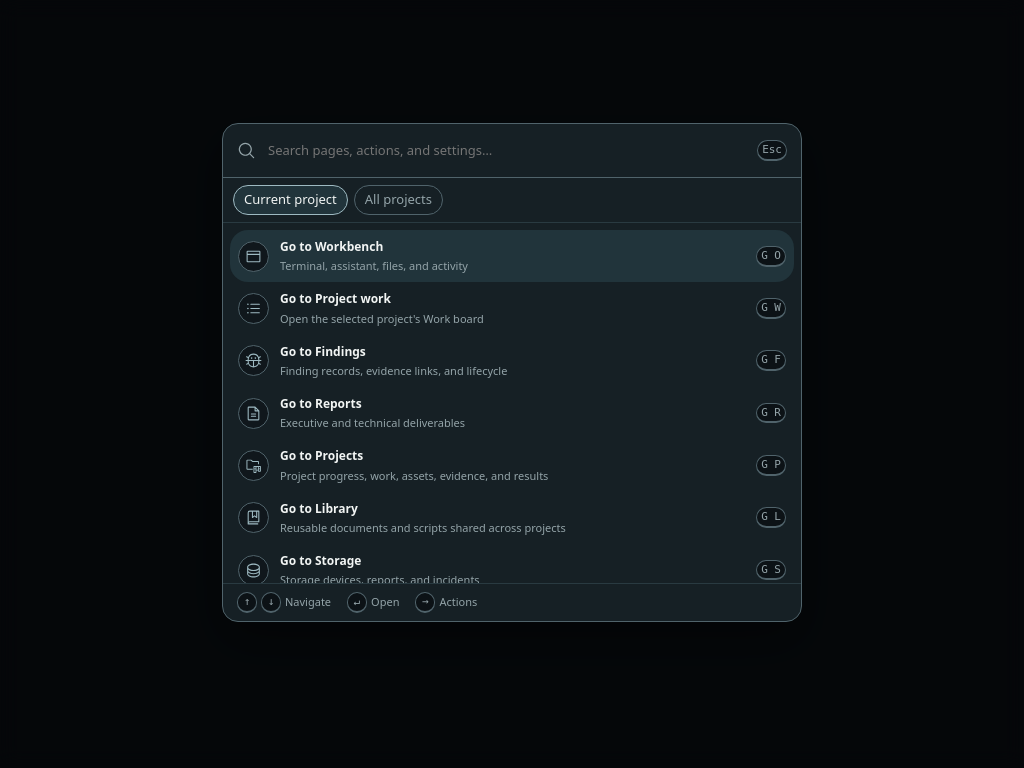
Scenario: CommandPalette federated search › merges Core resources into the existing page, setting, and action search
The width and height of the screenshot is (1024, 768).
Type "gateway" into the field named "Search pages, actions, and settings". click: {"x": 507, "y": 150}
box: [266,124,747,176]
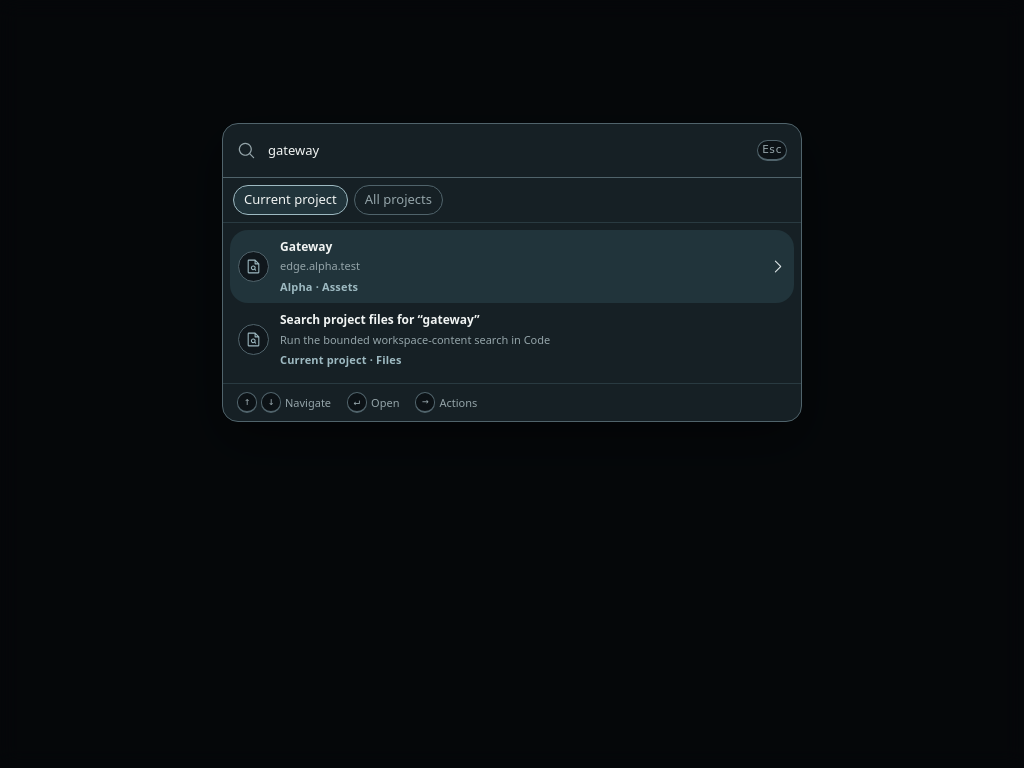
Check: the option "Gateway edge.alpha.test Alpha · Assets" is shown, box [230,230,794,303]
Check: the option "Search project files for" is shown, box [230,303,794,376]
Press ArrowRight in the field named "Search pages, actions, and settings", box [266,124,747,176]
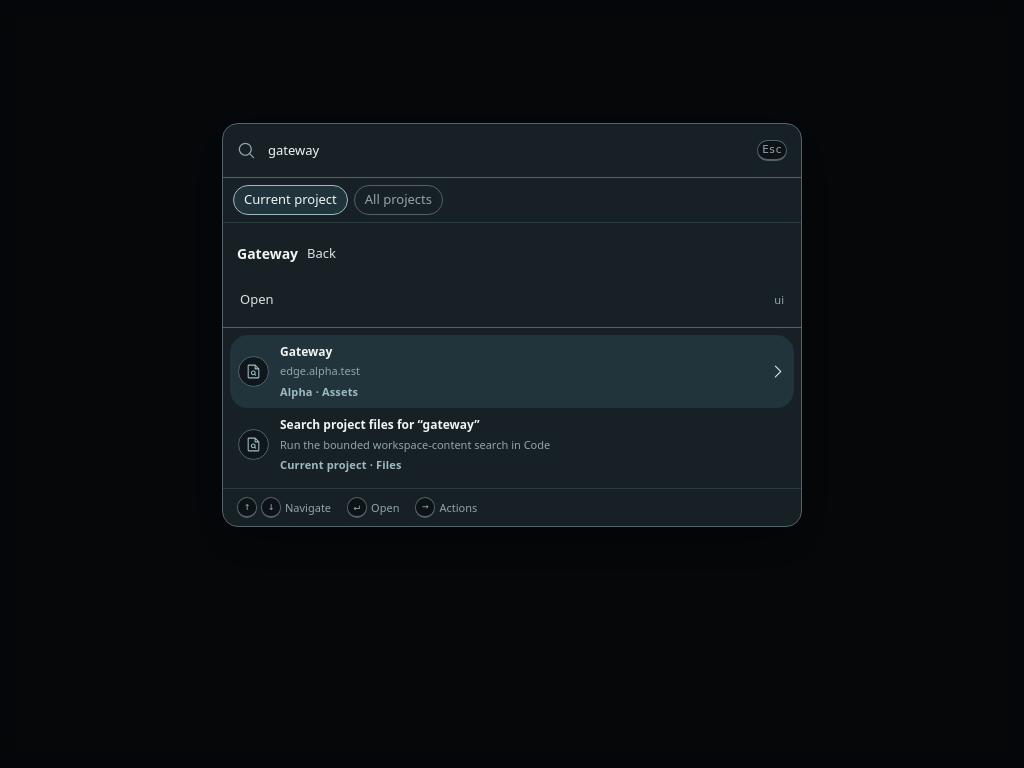
Check: the menu named "Actions for Gateway" is shown, box [223,223,801,328]
Check: the menu item "open ui" is enabled, box [231,281,793,319]
